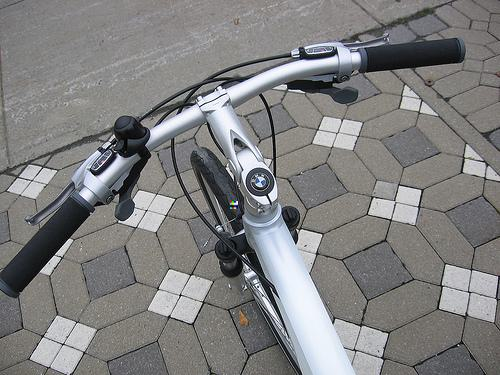car: (1, 35, 467, 375)
